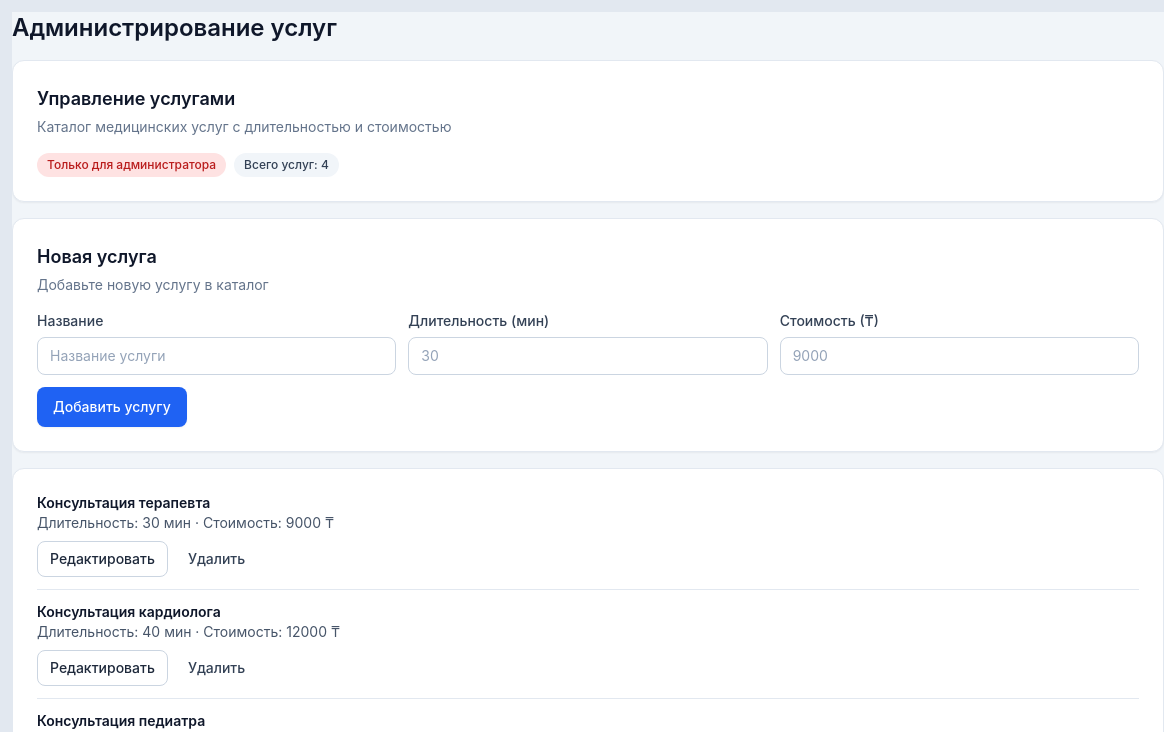
Test: AdminServicesPage integration › создаёт новую услугу и отображает её в списке
Expected: the heading "Консультация терапевта" is shown, [37, 494, 210, 511]
Step 1. Type "МРТ" into the field labelled "Название" → (217, 356), box [37, 337, 396, 375]
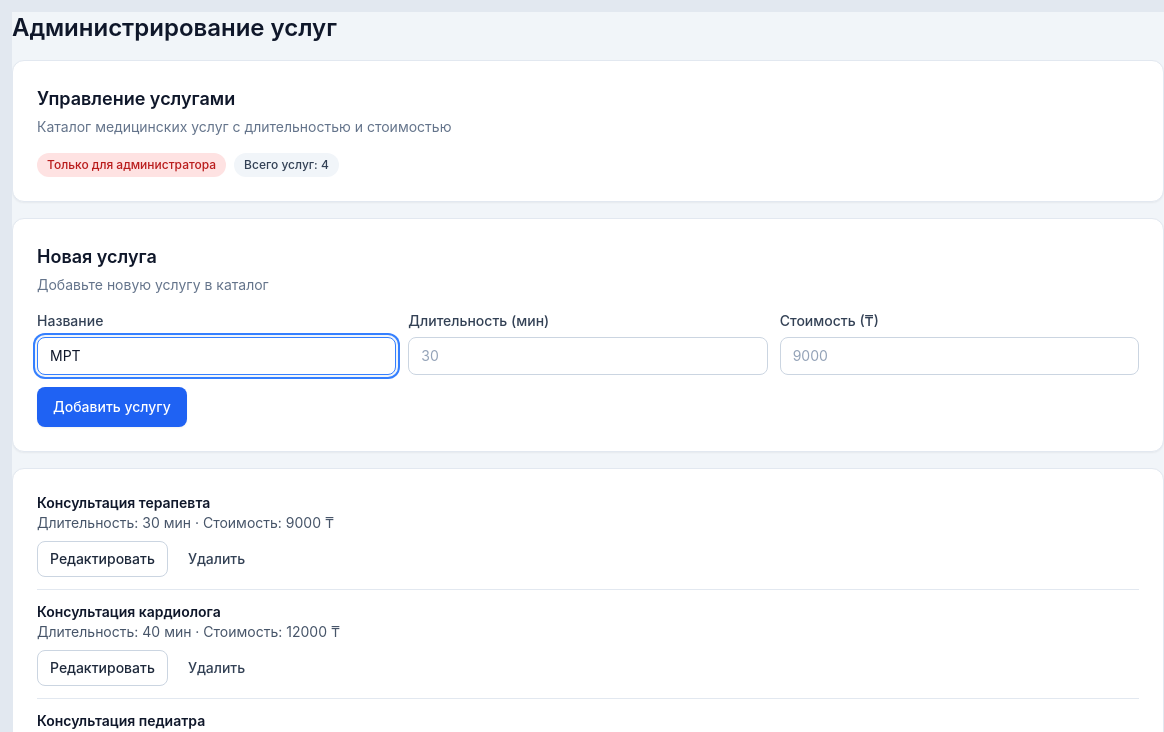
Step 2. Type "60" into the number field labelled "Длительность (мин)" → (588, 356), box [408, 337, 768, 375]
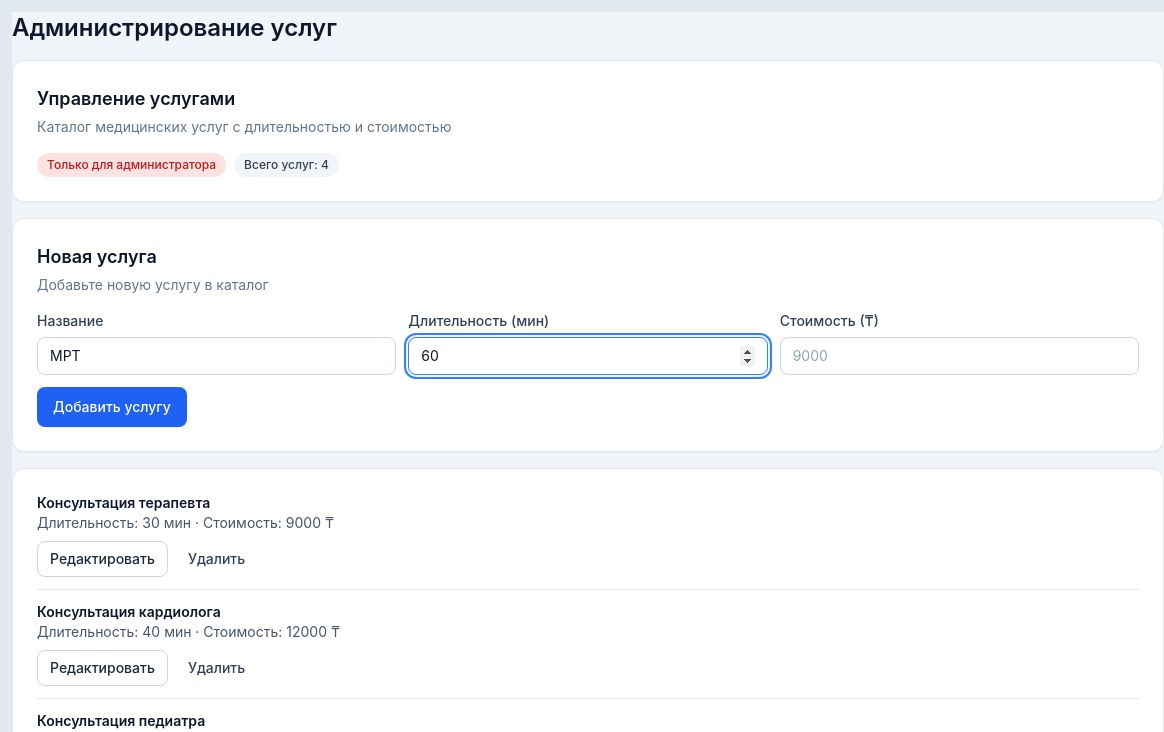
Step 3. Type "25000" into the number field labelled "Стоимость (₸)" → (959, 356), box [780, 337, 1139, 375]
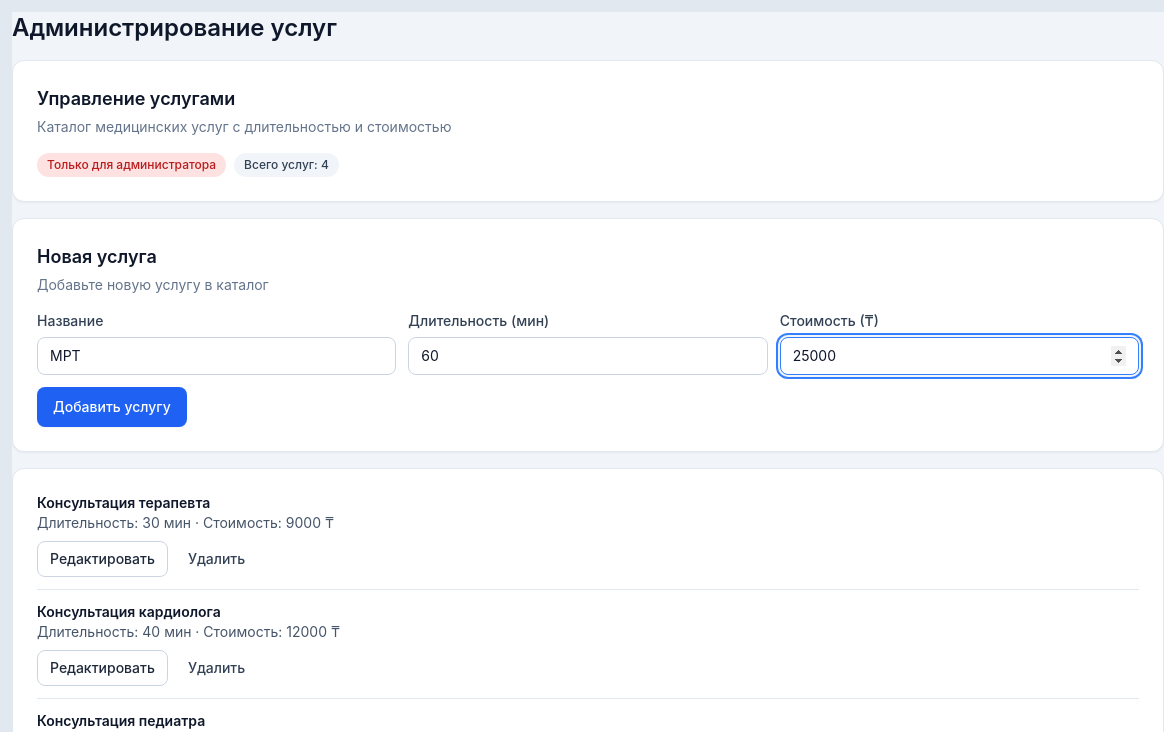
Step 4. Click the button "Добавить услугу" → (112, 407), box [37, 387, 187, 427]
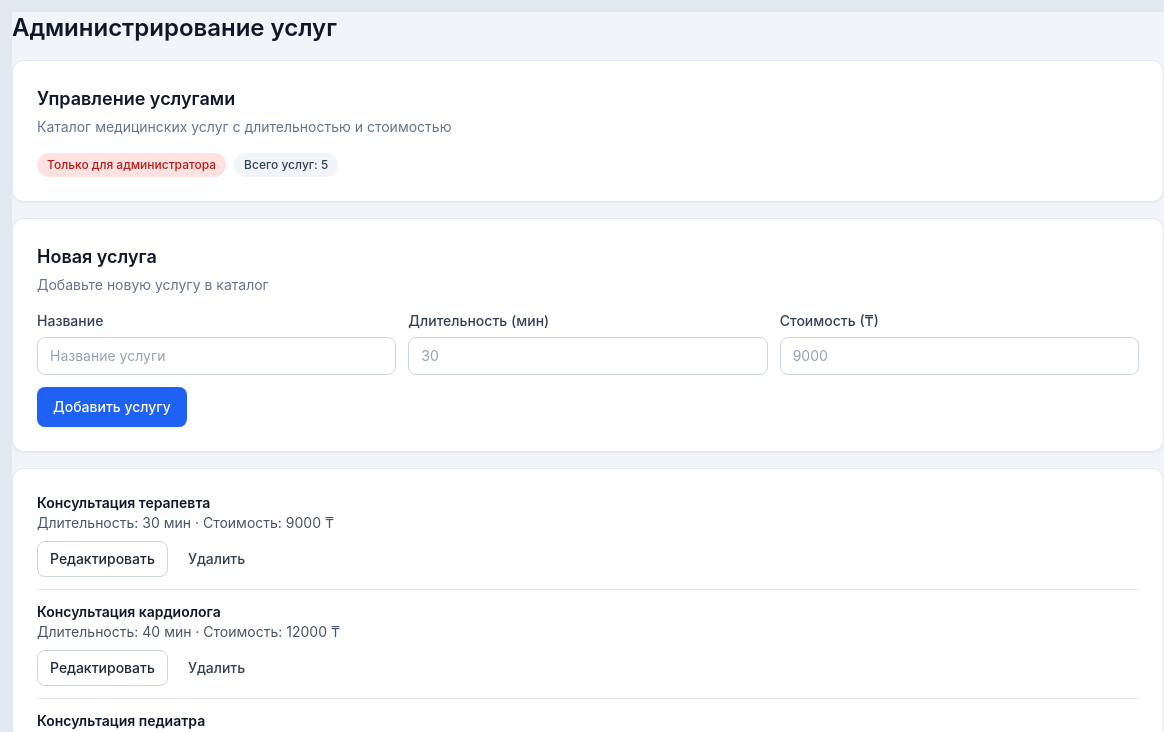
Expected: the text "Всего услуг: 5" is shown, [234, 153, 338, 177]
